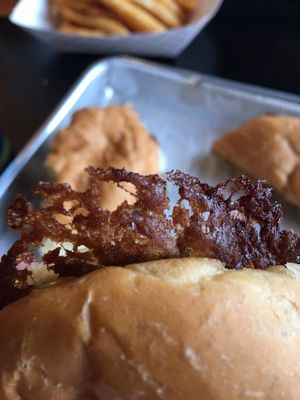sushi: (6, 0, 225, 66)
